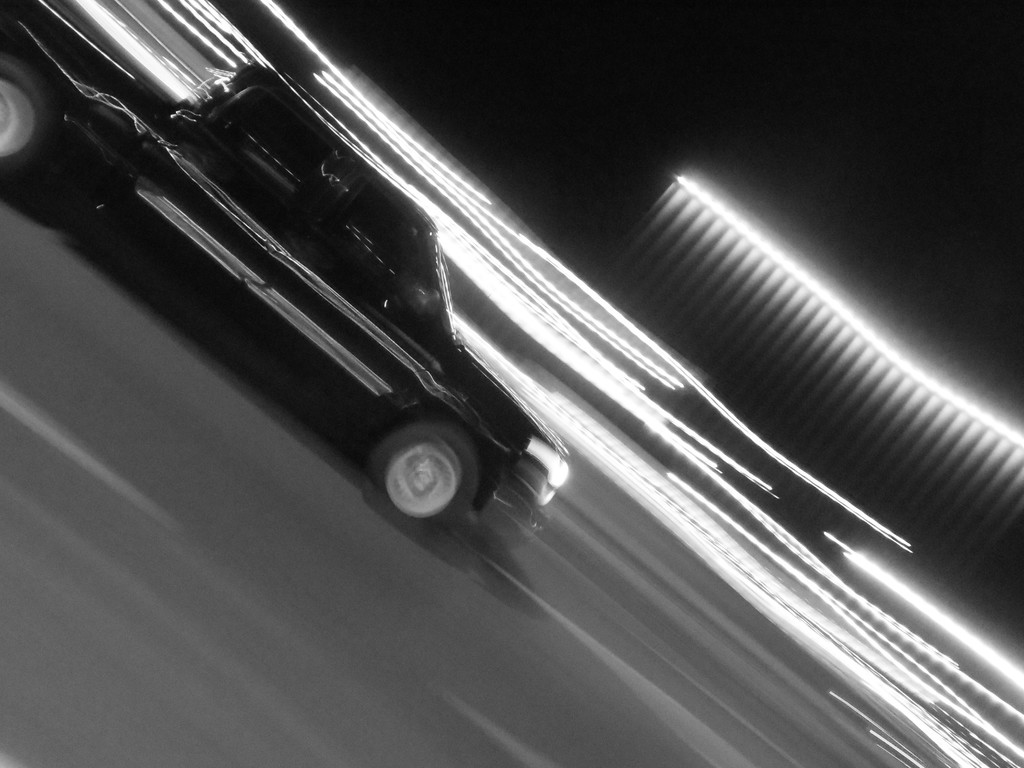Car: (0, 0, 576, 554)
